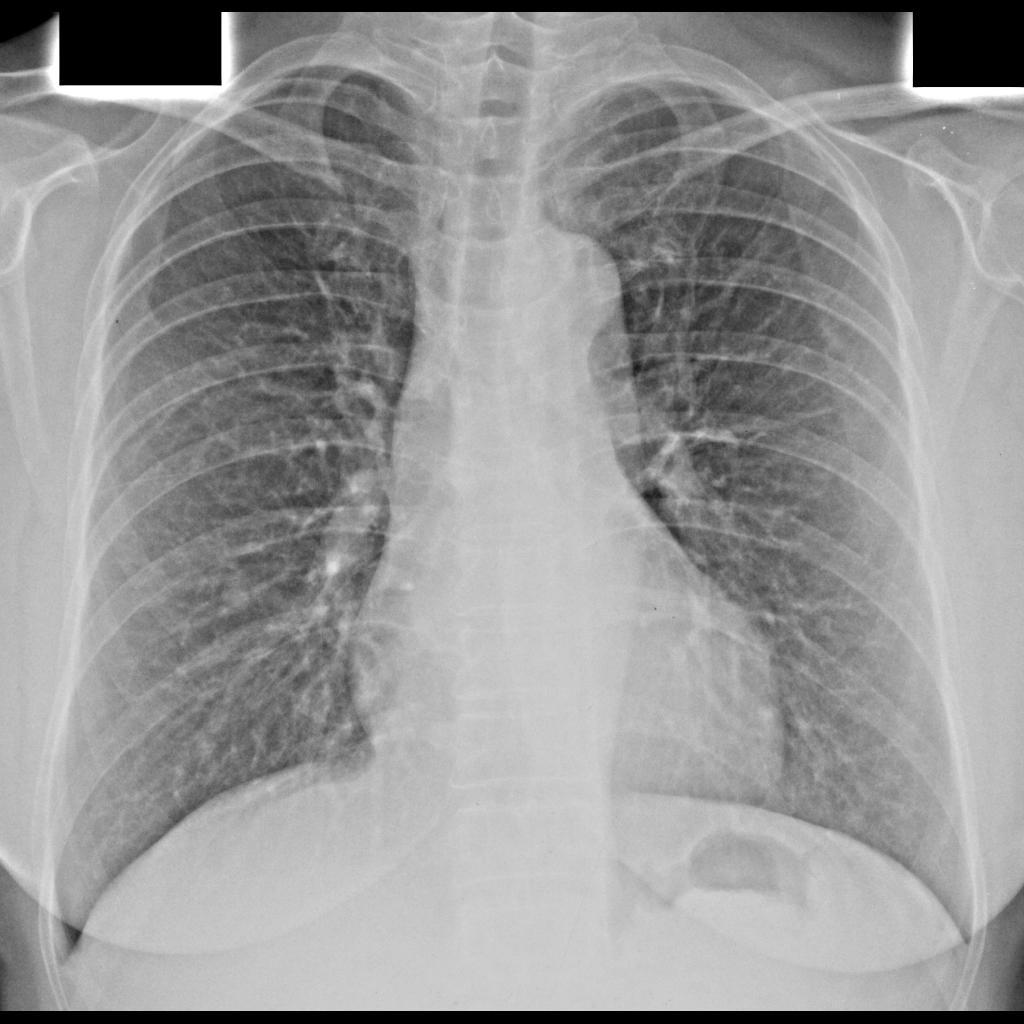Nodule: (215, 576, 256, 617)
